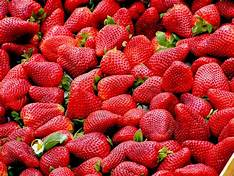Fresa: (172, 99, 213, 143), (146, 41, 192, 78), (65, 130, 114, 163), (191, 60, 233, 98), (53, 44, 98, 79), (21, 59, 68, 91), (18, 101, 67, 131), (94, 20, 133, 57), (138, 107, 179, 142), (120, 138, 163, 171), (94, 69, 138, 101), (159, 58, 196, 96), (160, 2, 198, 39), (31, 113, 76, 139), (37, 143, 71, 176), (99, 46, 134, 76), (192, 2, 221, 34)
